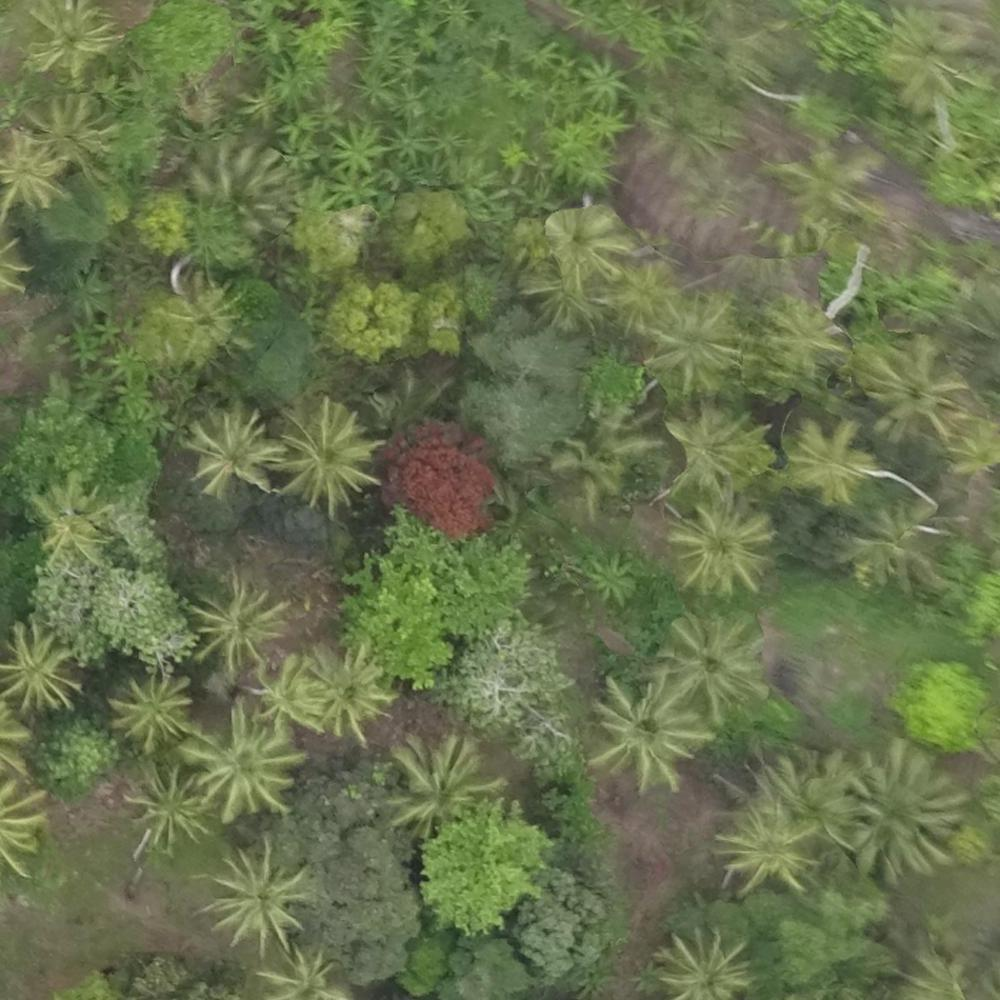Palm: (849, 741, 959, 873), (186, 707, 298, 815), (593, 672, 700, 780), (663, 607, 768, 712), (209, 845, 313, 946), (384, 732, 491, 830), (674, 496, 780, 594), (276, 405, 378, 505), (859, 341, 955, 438), (300, 641, 399, 734), (712, 798, 813, 888), (784, 417, 882, 507), (190, 577, 280, 671), (188, 407, 281, 494), (124, 761, 212, 843), (655, 924, 749, 1000), (2, 624, 79, 712), (107, 671, 195, 746), (33, 1, 109, 83)
